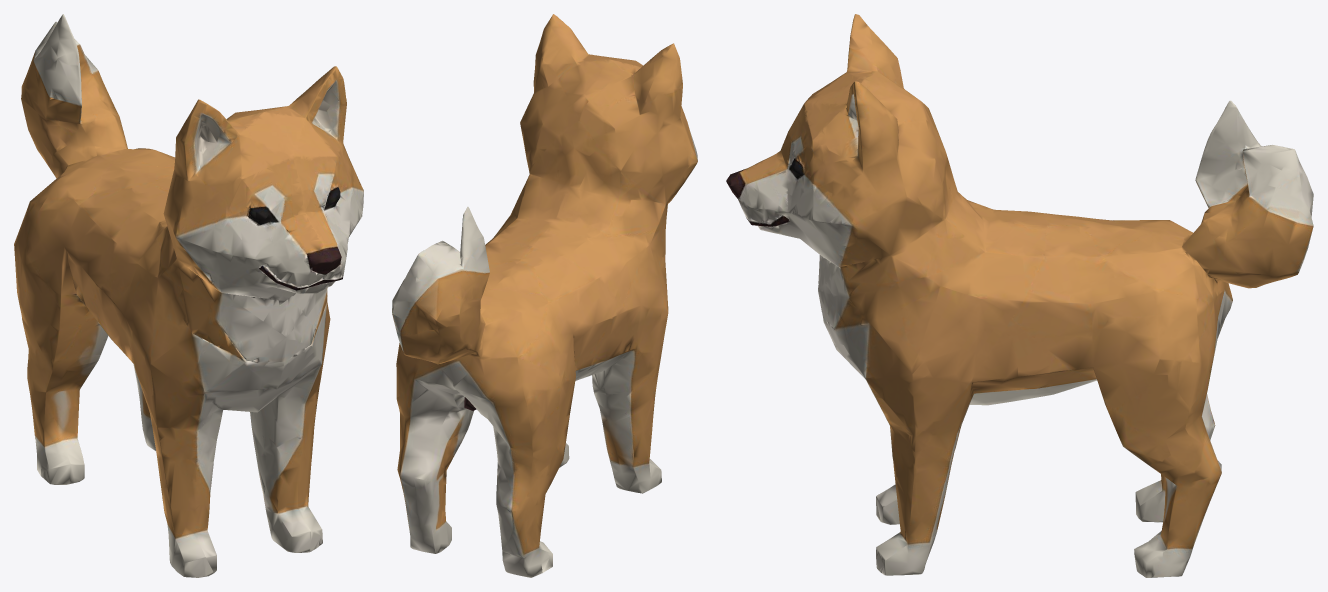
The model's file is 시바견.glb.
The picture shows the model from 3 angles, left to right: view 1: azimuth 30°, elevation 25°; view 2: azimuth 150°, elevation 25°; view 3: azimuth 270°, elevation 25°; orthographic projection. The views are drawn at different scales.
Parts seen in each view (by area): view 1: tripo_node_569fe2c3-0762-47c6-bce1-a28faba60c02; view 2: tripo_node_569fe2c3-0762-47c6-bce1-a28faba60c02; view 3: tripo_node_569fe2c3-0762-47c6-bce1-a28faba60c02.
Boxes of the visible parts, x1,y1,x2,y2 form: tripo_node_569fe2c3-0762-47c6-bce1-a28faba60c02: [14, 14, 363, 577]; tripo_node_569fe2c3-0762-47c6-bce1-a28faba60c02: [392, 14, 697, 577]; tripo_node_569fe2c3-0762-47c6-bce1-a28faba60c02: [726, 14, 1313, 577].
Size of the model in its own units: 0.3665 by 0.9118 by 0.9791.
Materials: 1 (1 with a texture image).
